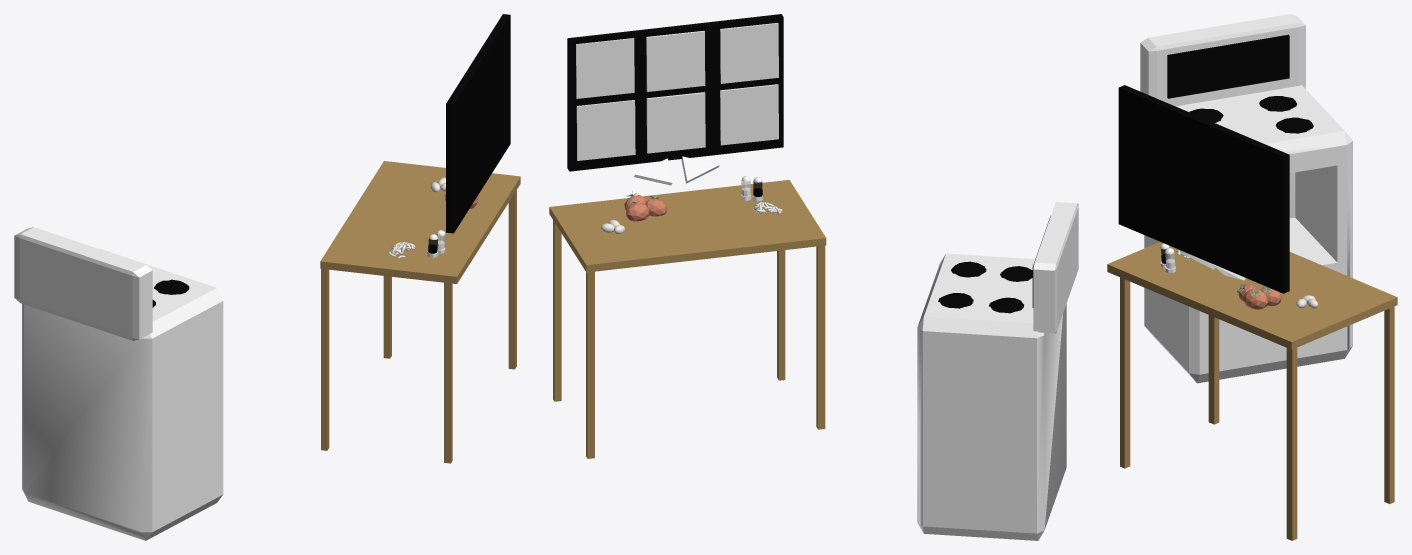
The model's file is layout.dae.
3 views of the same model, side by side, from view 1: azimuth 30°, elevation 25°; view 2: azimuth 150°, elevation 25°; view 3: azimuth 270°, elevation 25° (orthographic). The views are drawn at different scales.
Parts seen in each view (by area): view 1: Stove, Table, UI; view 2: Stove, UI, Table, UI_Arrows, Tomatoes; view 3: Stove, UI, Table, Tomatoes.
Part boxes in pixels (x1,y1,x2,y2): Stove: [14, 227, 223, 540]; Table: [320, 161, 520, 463]; UI: [446, 14, 510, 233]; Stove: [917, 202, 1078, 540]; UI: [567, 14, 783, 171]; Table: [549, 180, 826, 458]; UI_Arrows: [634, 156, 719, 185]; Tomatoes: [624, 191, 667, 221]; Stove: [1140, 14, 1352, 383]; UI: [1118, 85, 1289, 293]; Table: [1107, 242, 1397, 540]; Tomatoes: [1237, 284, 1281, 309].
Size of the model in its own units: 3.04 by 1.43 by 2.17.
